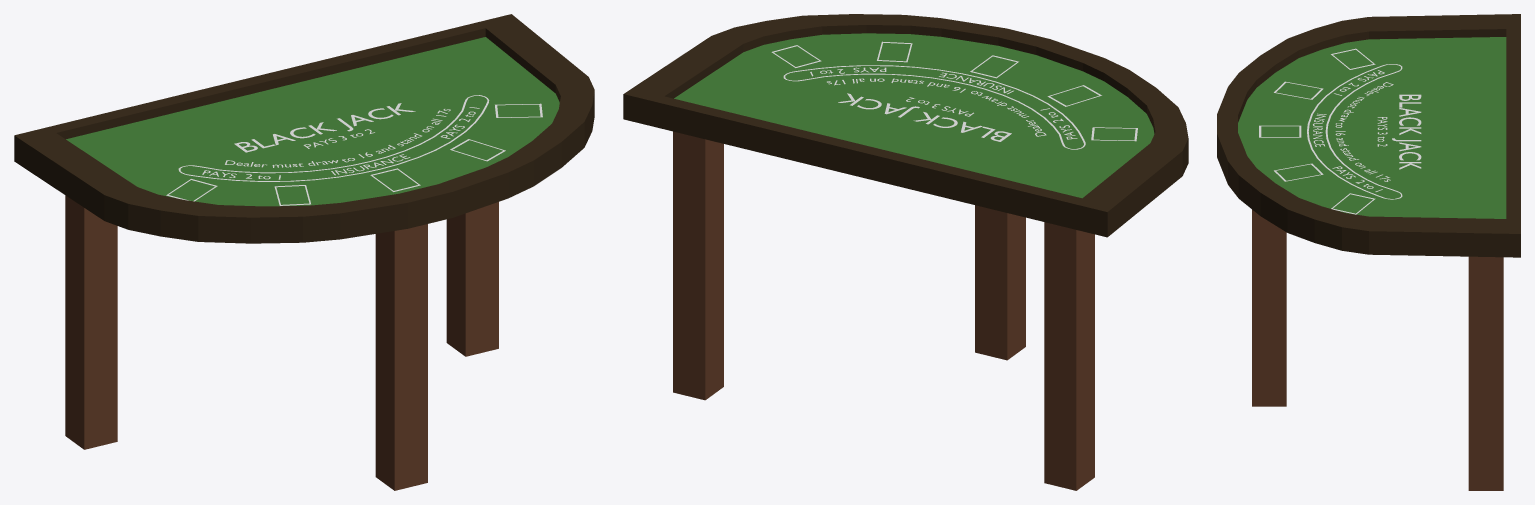
Rendered from Blackjack Table.fbx.
The picture shows the model from 3 angles, left to right: view 1: azimuth 30°, elevation 25°; view 2: azimuth 150°, elevation 25°; view 3: azimuth 270°, elevation 25°; orthographic projection. The views are drawn at different scales.
Parts seen in each view (by area): view 1: Blackjack Table; view 2: Blackjack Table; view 3: Blackjack Table.
Boxes of the visible parts, x1=… form: Blackjack Table: x1=14, y1=14, x2=594, y2=490; Blackjack Table: x1=623, y1=14, x2=1188, y2=490; Blackjack Table: x1=1217, y1=14, x2=1520, y2=490.
Size of the model in its own units: 1200 by 700 by 700.
